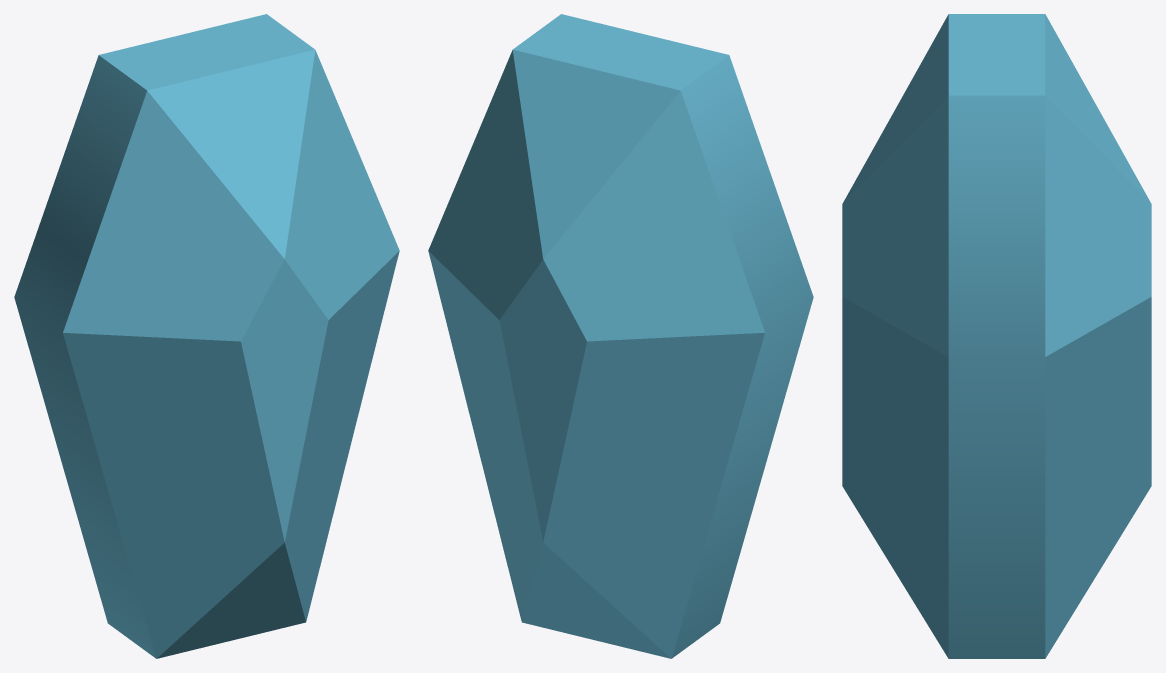
The model's file is Sapphire Jewel.fbx.
The picture shows the model from 3 angles, left to right: view 1: azimuth 30°, elevation 25°; view 2: azimuth 150°, elevation 25°; view 3: azimuth 270°, elevation 25°; orthographic projection.
Visible parts, largest first — view 1: pCube3; view 2: pCube3; view 3: pCube3.
Boxes of the visible parts, <box> form: pCube3: <box>14,14,399,658</box>; pCube3: <box>428,14,813,658</box>; pCube3: <box>842,14,1151,658</box>.
Bounding box in the file's own units: 5.73 × 9.28 × 4.58.
